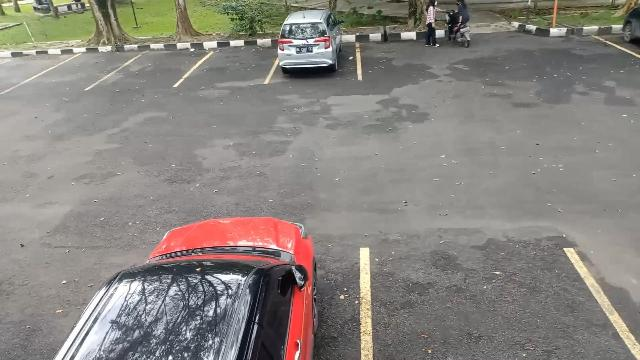empty: (360, 244, 608, 360), (112, 38, 196, 90), (37, 40, 119, 92), (192, 37, 274, 85)
occupied: (270, 26, 360, 82)
